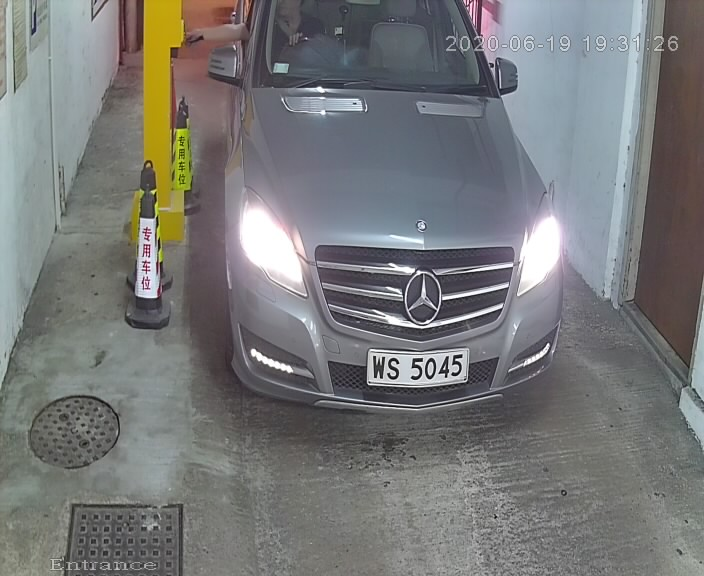privatecar: (199, 3, 586, 418)
